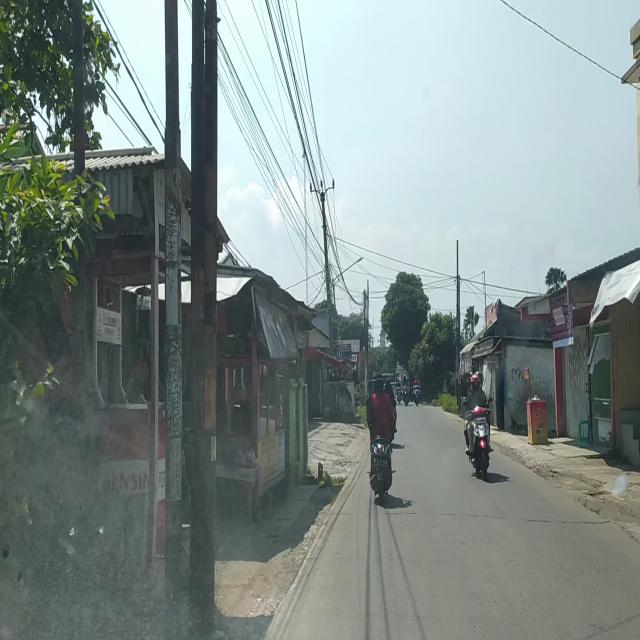Sewer Cover: (375, 510, 608, 528)
